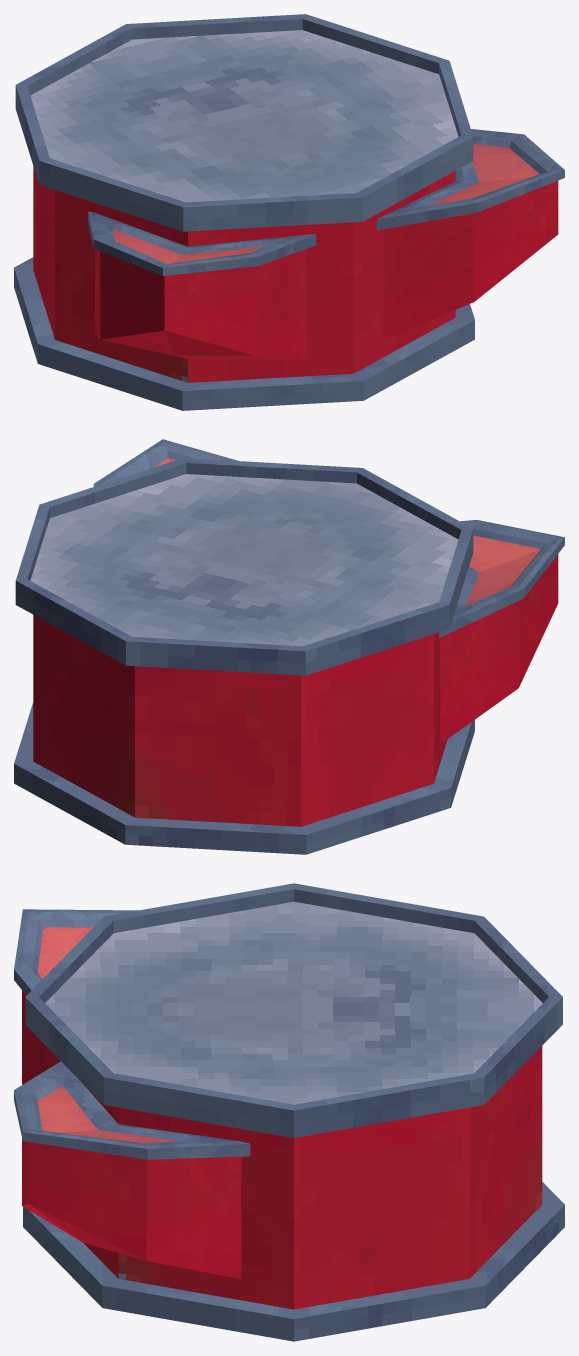
The model's file is drum.fbx.
3 renders of one model, top to bottom at view 1: azimuth 30°, elevation 25°; view 2: azimuth 150°, elevation 25°; view 3: azimuth 270°, elevation 25°, orthographic. The views are drawn at different scales.
Parts seen in each view (by area): view 1: Cat drum; view 2: Cat drum; view 3: Cat drum.
Part boxes in pixels (left/top/right/bottom): Cat drum: left=14, top=14, right=564, bottom=410; Cat drum: left=14, top=439, right=564, bottom=854; Cat drum: left=14, top=883, right=564, bottom=1341.
Bounding box in the file's own units: 227 × 222 × 102.
Materials: 1 (1 with a texture image).
